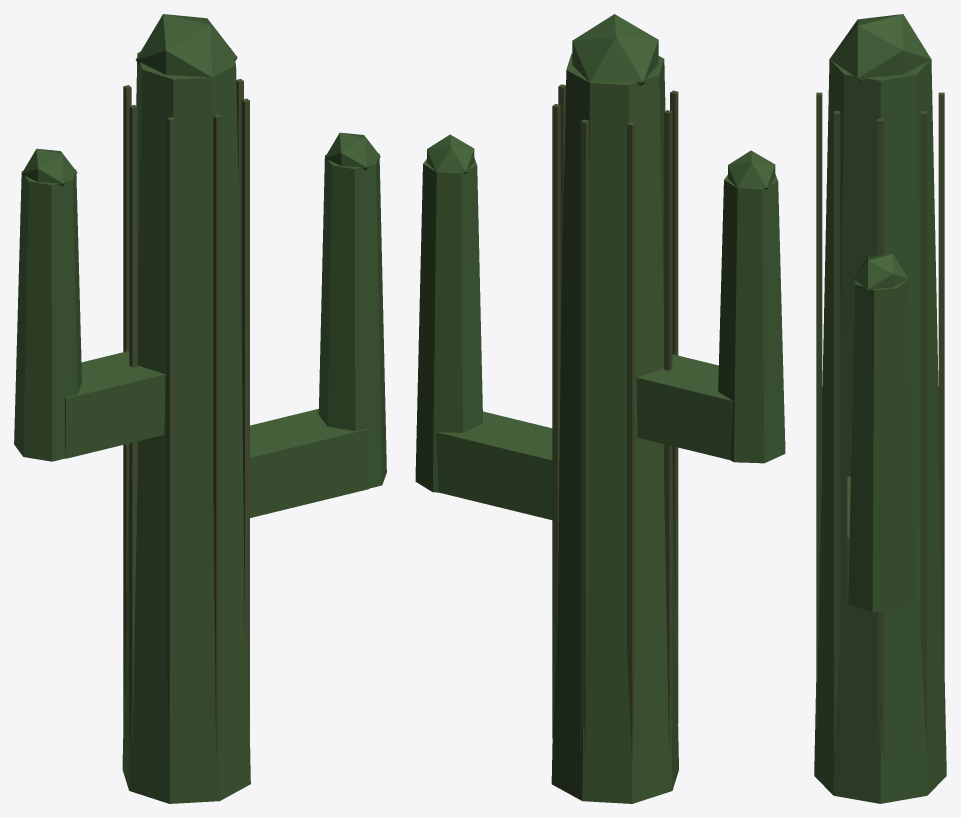
File: SM_Cactus_A.glb
The picture shows the model from 3 angles, left to right: view 1: azimuth 30°, elevation 25°; view 2: azimuth 150°, elevation 25°; view 3: azimuth 270°, elevation 25°; orthographic projection.
Visible parts, largest first — view 1: SM_Cactus_A; view 2: SM_Cactus_A; view 3: SM_Cactus_A.
Boxes of the visible parts, x1,y1,x2,y2 form: SM_Cactus_A: (14,14,386,803); SM_Cactus_A: (415,14,785,803); SM_Cactus_A: (814,14,946,803).
Size of the model in its own units: 1.64 by 3.27 by 0.52.
1 material, 1 textured.
